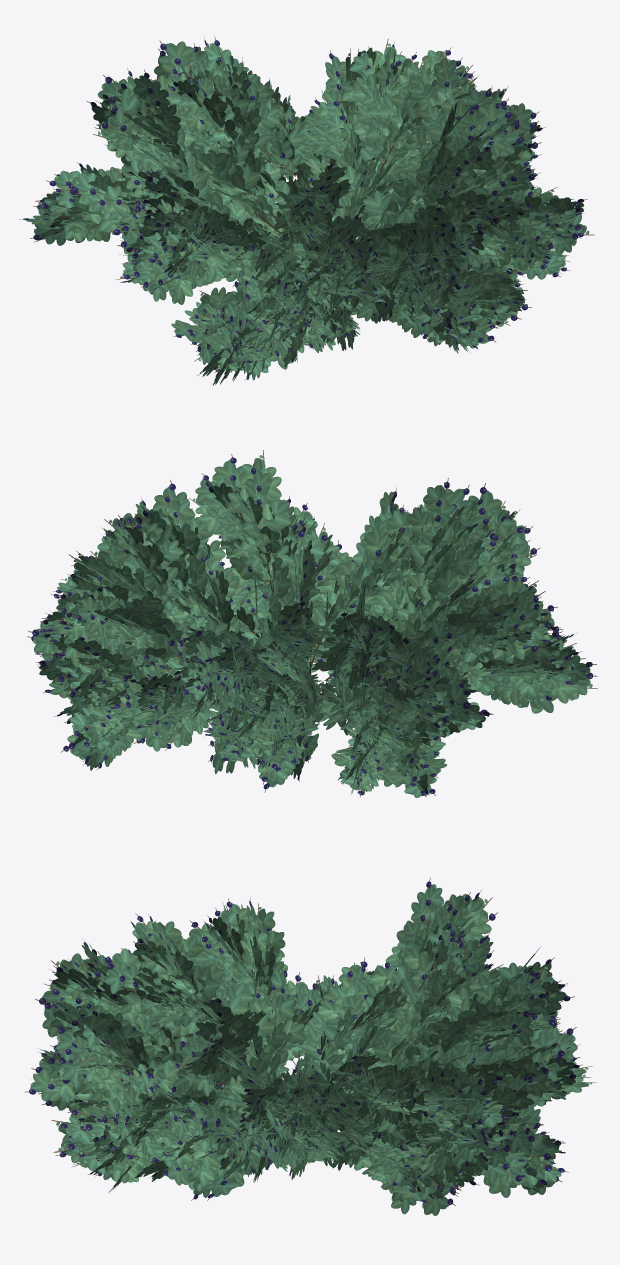
Rendered from bilberry_low_v02.glb.
The picture shows the model from 3 angles, top to bottom: view 1: azimuth 30°, elevation 25°; view 2: azimuth 150°, elevation 25°; view 3: azimuth 270°, elevation 25°; orthographic projection. The views are drawn at different scales.
Parts seen in each view (by area): view 1: bilberry_low_v02; view 2: bilberry_low_v02; view 3: bilberry_low_v02.
Part boxes in pixels (bbox=[...]): bilberry_low_v02: bbox=[19, 36, 593, 385]; bilberry_low_v02: bbox=[27, 450, 597, 797]; bilberry_low_v02: bbox=[25, 877, 596, 1215].
Bounding box in the file's own units: 0.9673 × 0.5 × 1.03.
Materials: 2 (2 with a texture image).
